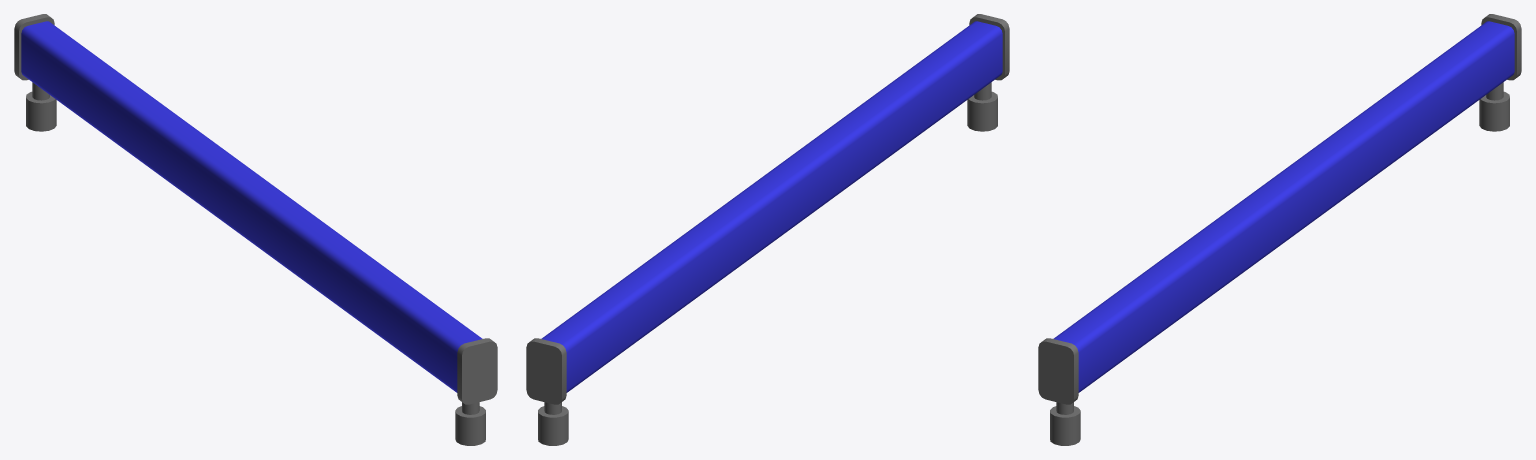
The model's file is handelToMove.fbx.
3 views of the same model, side by side, from view 1: azimuth 30°, elevation 25°; view 2: azimuth 150°, elevation 25°; view 3: azimuth 330°, elevation 25° (orthographic).
Parts seen in each view (by area): view 1: handele; view 2: handele; view 3: handele.
Boxes of the visible parts, x1=… form: handele: x1=14, y1=14, x2=497, y2=445; handele: x1=526, y1=14, x2=1009, y2=445; handele: x1=1038, y1=14, x2=1521, y2=445.
Bounding box in the file's own units: 4.6 × 12.58 × 100.
